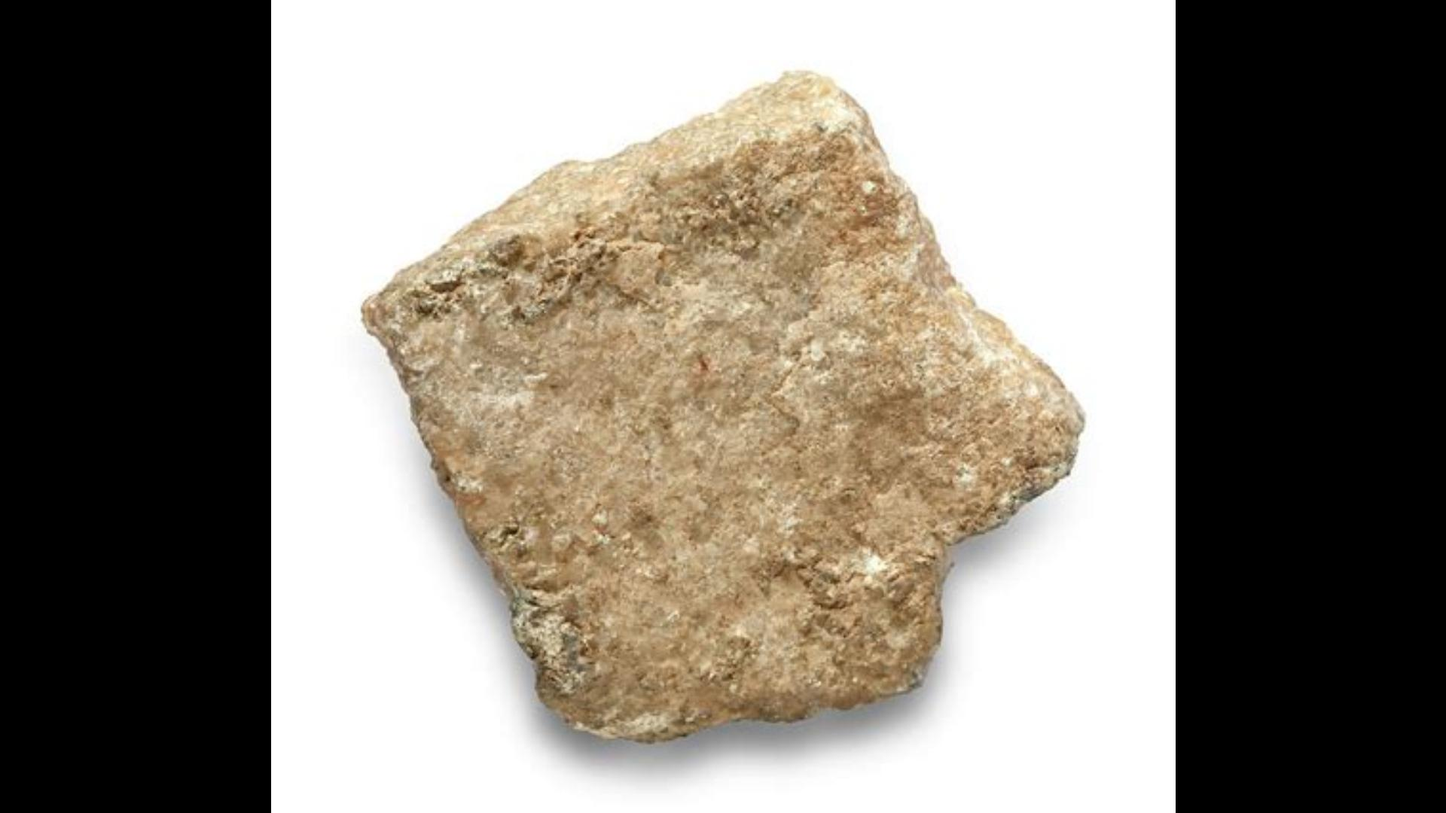rock: (362, 74, 1076, 739)
